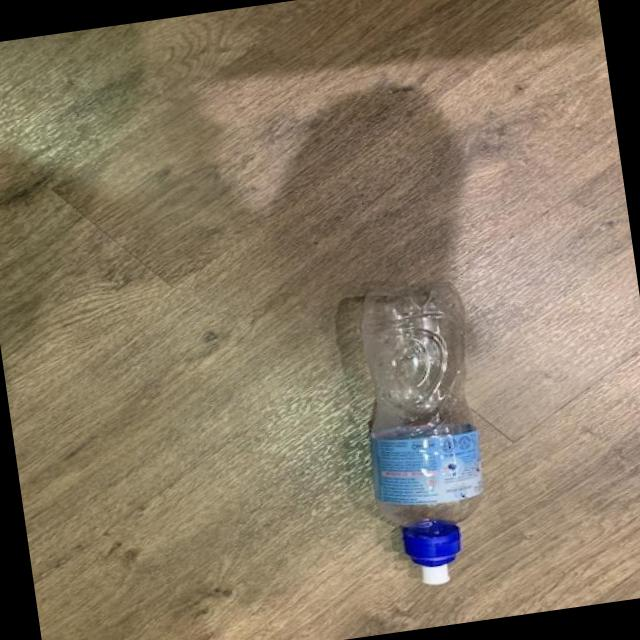plastic_bottle: (353, 277, 498, 591)
